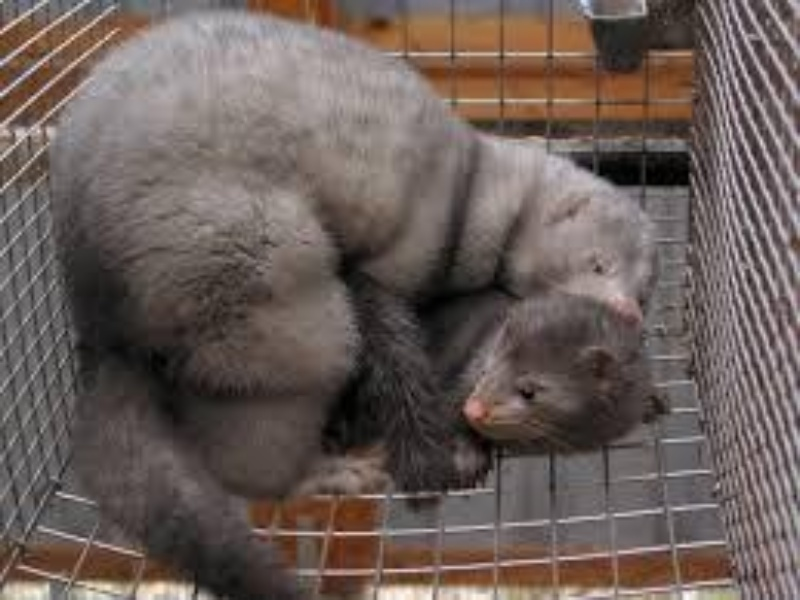minkish: (56, 8, 663, 503), (64, 285, 656, 600)
